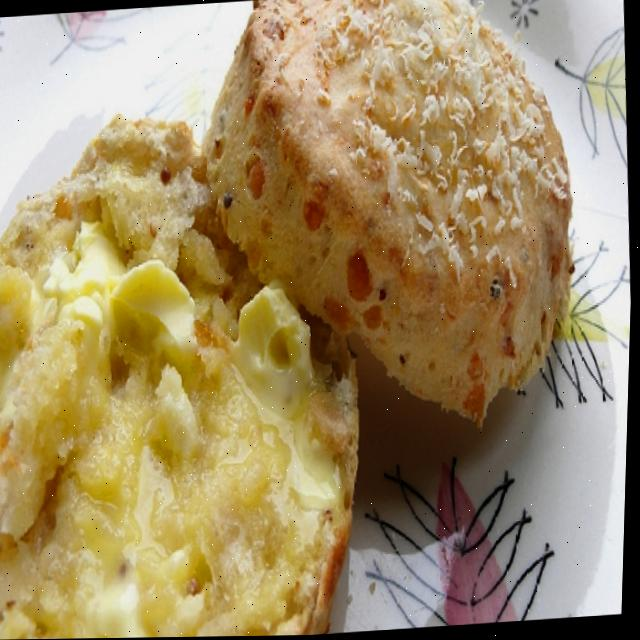面包点心: (183, 0, 598, 413)
